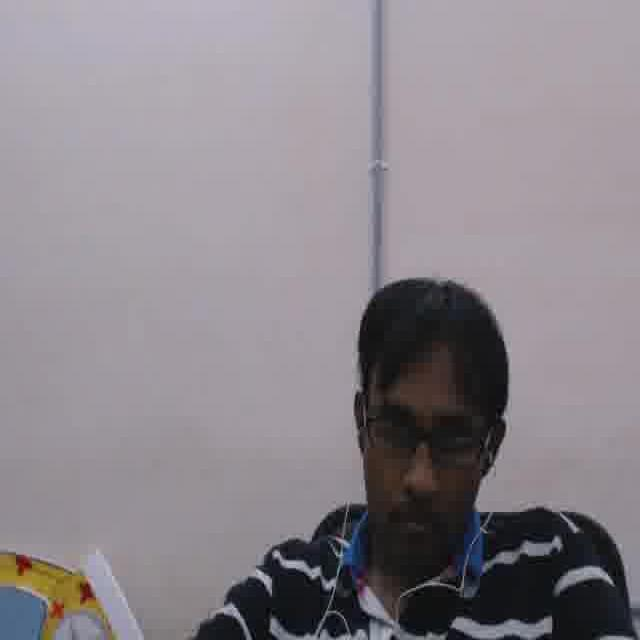Boredom: (361, 359, 485, 573)
